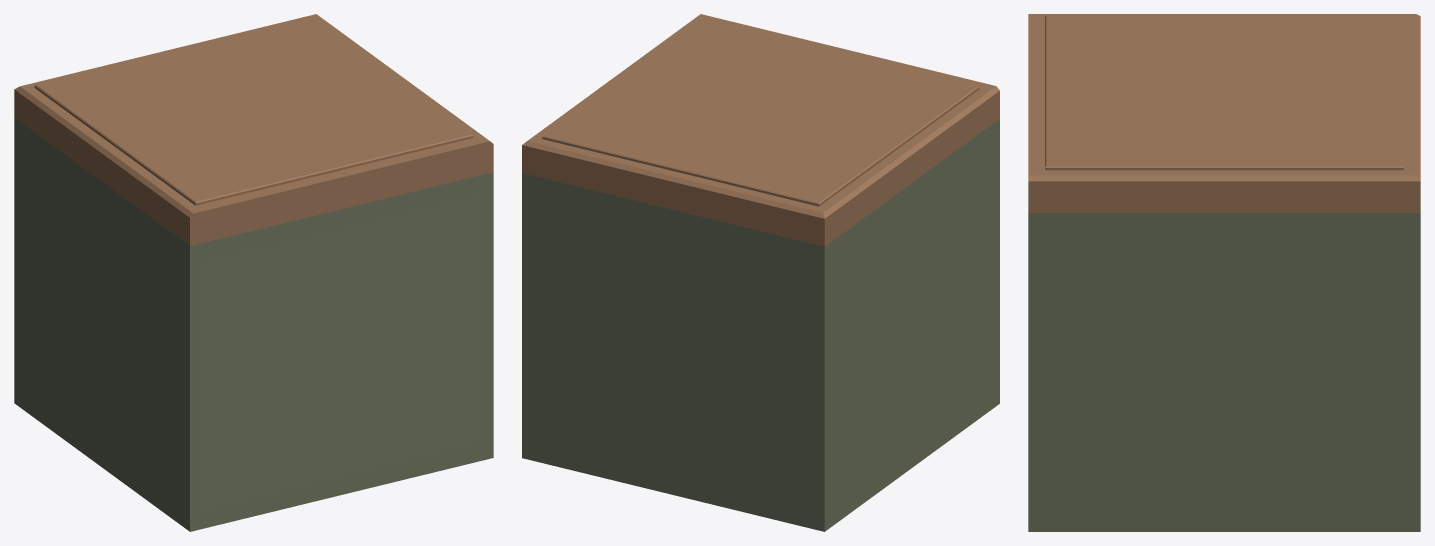
File: CornerCounter.obj
3 renders of one model, left to right at view 1: azimuth 30°, elevation 25°; view 2: azimuth 150°, elevation 25°; view 3: azimuth 270°, elevation 25°, orthographic. The views are drawn at different scales.
Visible parts, largest first — view 1: Corner_Counter_Cooker/Counter; view 2: Corner_Counter_Cooker/Counter; view 3: Corner_Counter_Cooker/Counter.
Part boxes in pixels (left/top/right/bottom): Corner_Counter_Cooker/Counter: left=14, top=14, right=493, bottom=531; Corner_Counter_Cooker/Counter: left=522, top=14, right=999, bottom=531; Corner_Counter_Cooker/Counter: left=1028, top=14, right=1420, bottom=531.
Size of the model in its own units: 1 by 1.01 by 1.
1 material, 1 textured.
